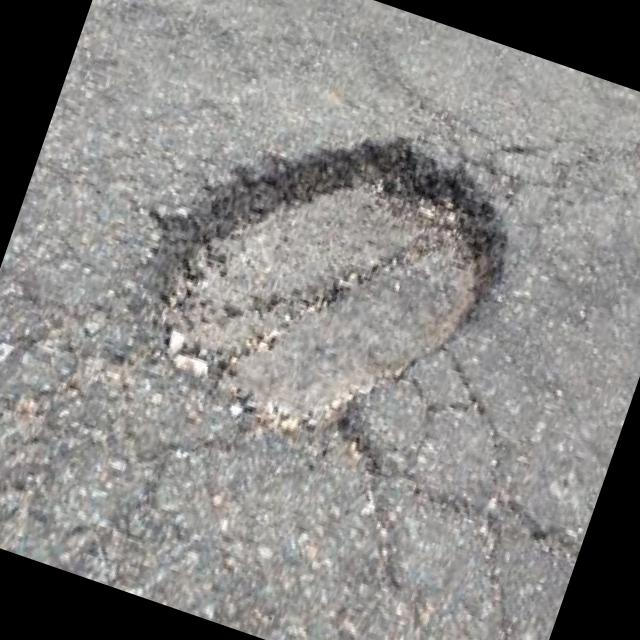Potholes: (97, 53, 552, 492)
